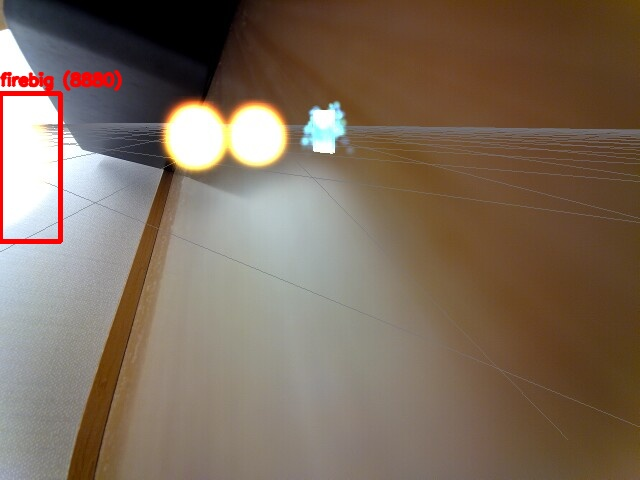firebig: (0, 93, 60, 241)
